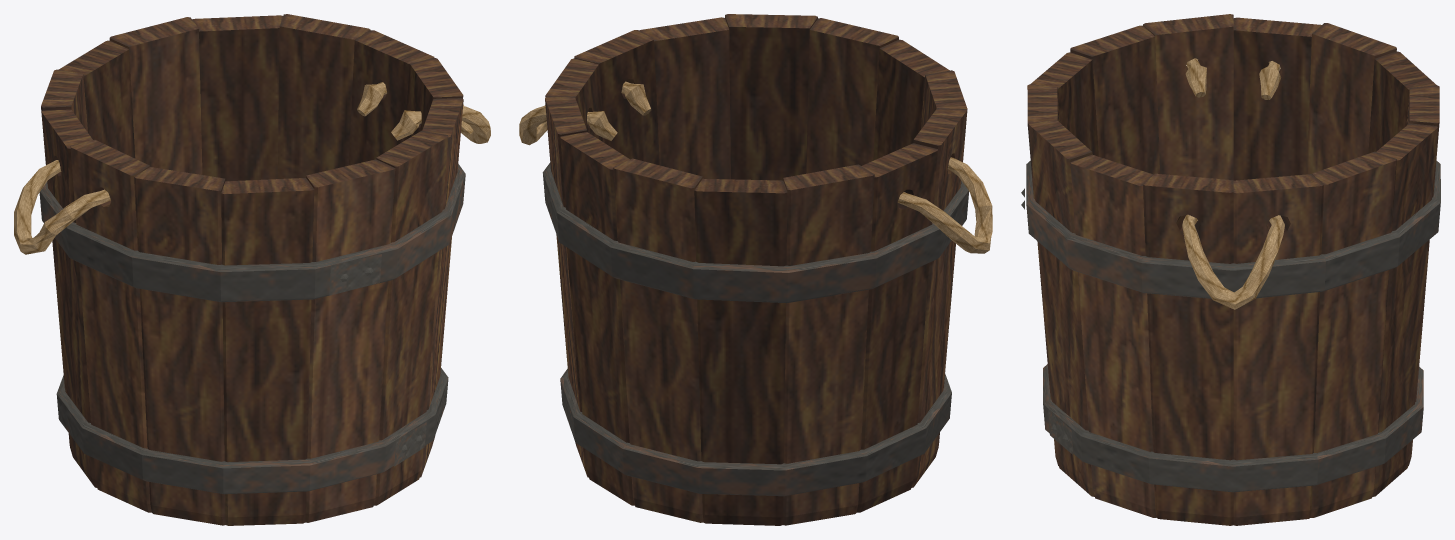
The model's file is Balde-de-Madeira.glb.
The picture shows the model from 3 angles, left to right: view 1: azimuth 30°, elevation 25°; view 2: azimuth 150°, elevation 25°; view 3: azimuth 270°, elevation 25°; orthographic projection.
Parts seen in each view (by area): view 1: Balde, Corda; view 2: Balde, Corda; view 3: Balde, Corda.
Part boxes in pixels (<box>): Balde: <box>39,14,465,525</box>; Corda: <box>14,82,490,254</box>; Balde: <box>542,14,968,525</box>; Corda: <box>519,81,992,253</box>; Balde: <box>1021,14,1440,525</box>; Corda: <box>1182,58,1284,309</box>.
Bounding box in the file's own units: 0.4003 × 0.2868 × 0.3139.
3 materials, 3 textured.
